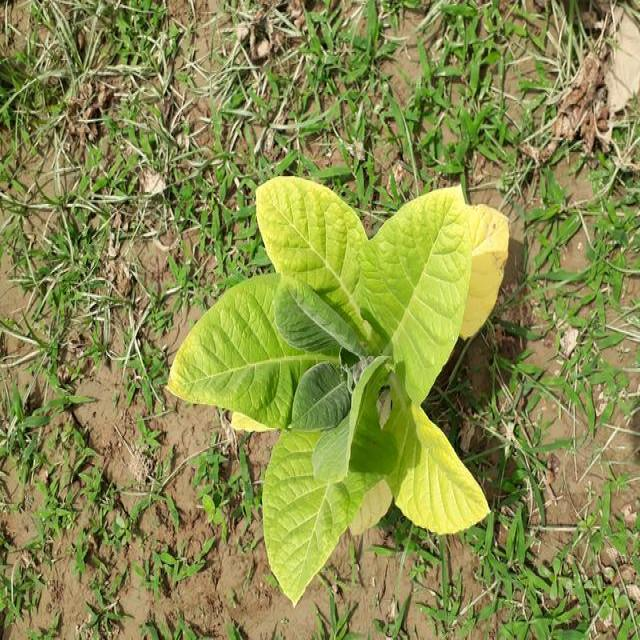crop: (185, 182, 503, 590)
